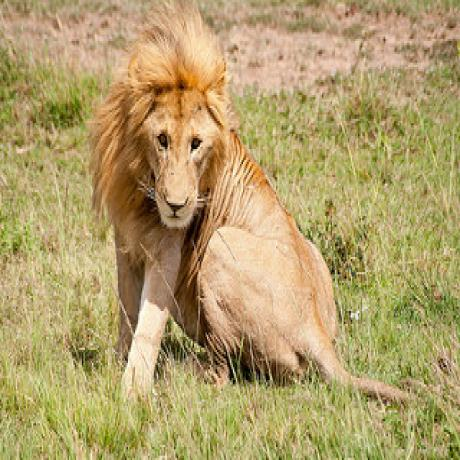Lion: (88, 9, 342, 392)
